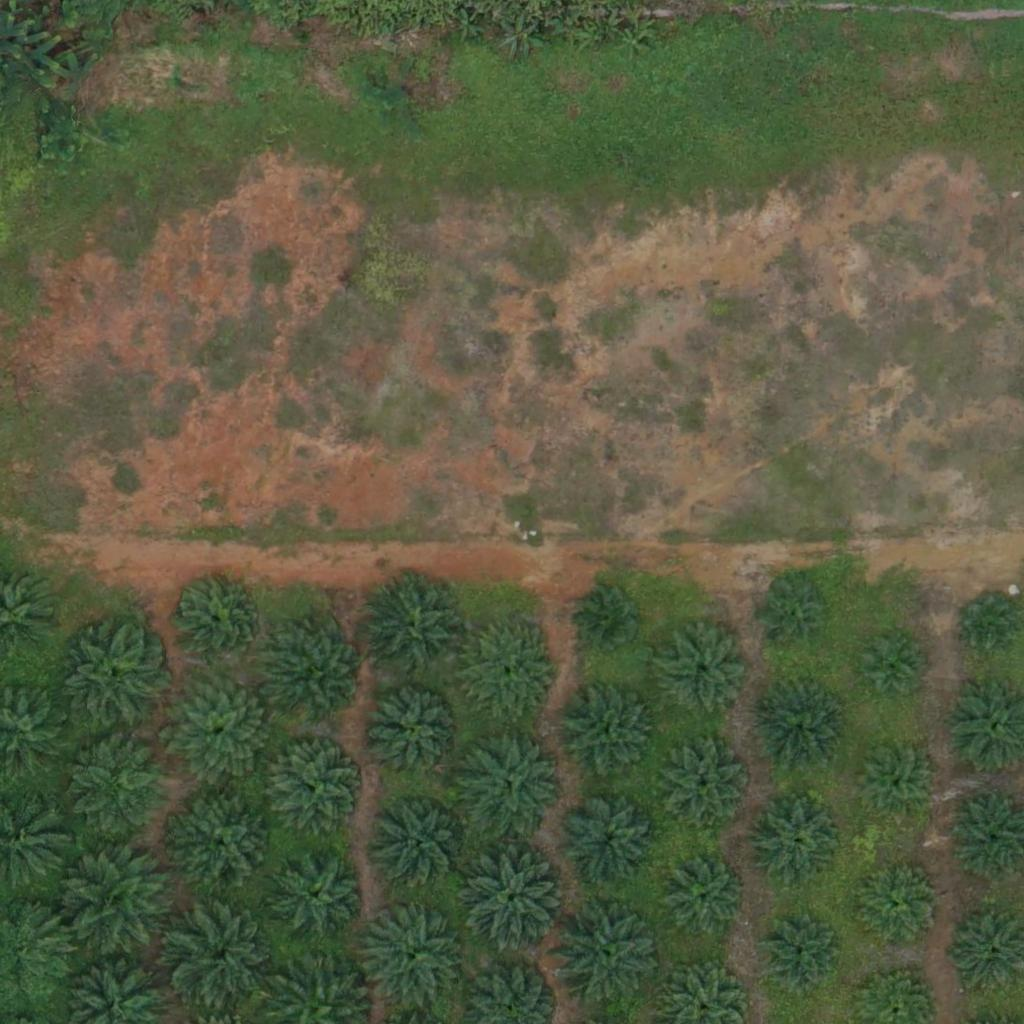Kelapa_Sawit: (164, 675, 277, 789), (168, 787, 281, 901), (552, 898, 665, 1011), (355, 901, 467, 1015), (66, 845, 178, 958), (168, 902, 280, 1015), (359, 572, 471, 685), (459, 842, 571, 955), (267, 627, 367, 728), (368, 686, 468, 787), (370, 792, 470, 893), (461, 624, 561, 725), (463, 730, 563, 831), (557, 682, 657, 783), (560, 790, 660, 891), (654, 620, 754, 721), (63, 627, 163, 727), (76, 737, 176, 837), (267, 736, 367, 836), (270, 847, 370, 947), (662, 744, 750, 833), (756, 687, 844, 775), (753, 800, 841, 888), (855, 866, 943, 954), (171, 575, 258, 663), (659, 858, 746, 946), (858, 750, 933, 825), (762, 918, 837, 993), (763, 583, 826, 646), (860, 630, 923, 693), (580, 585, 643, 648), (956, 591, 1018, 653)
